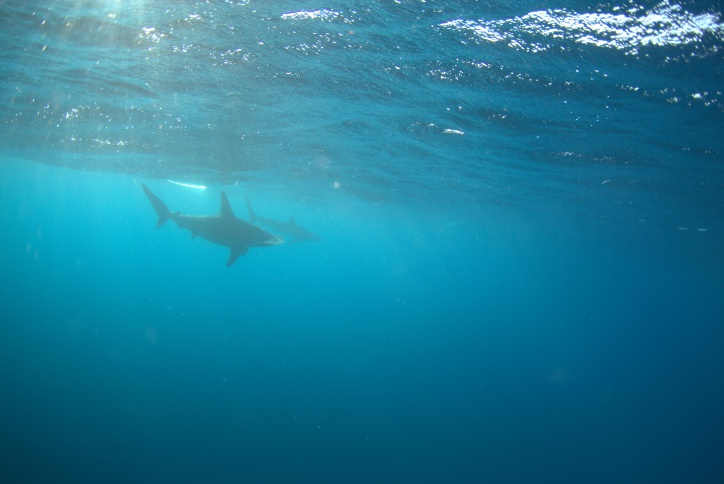Hammer: (140, 179, 329, 283)
